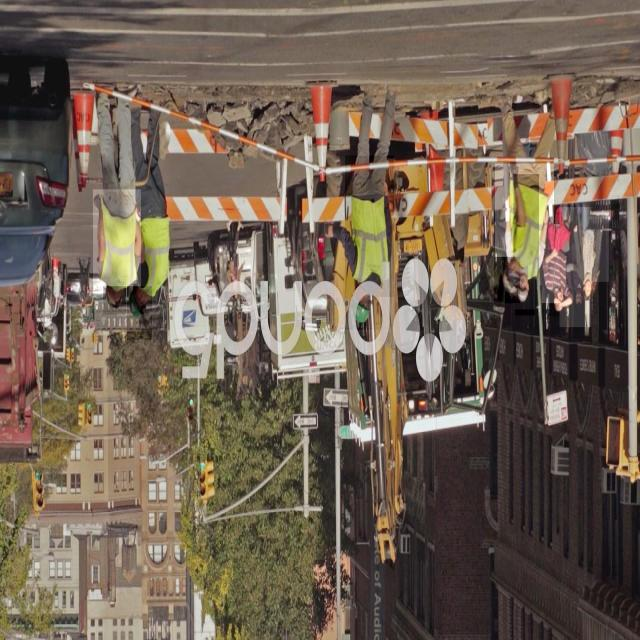Helmet: (560, 207, 592, 327), (569, 213, 609, 282), (542, 224, 570, 303), (345, 276, 379, 330), (220, 241, 254, 291), (127, 286, 152, 340), (494, 257, 520, 303), (515, 266, 535, 316), (512, 278, 540, 310), (578, 270, 596, 308), (570, 274, 586, 316), (103, 286, 126, 315), (224, 283, 246, 313), (546, 286, 566, 316), (78, 275, 91, 301), (76, 302, 92, 316)
Safety Vest: (495, 164, 554, 286), (345, 155, 394, 297), (93, 189, 141, 298), (132, 193, 174, 308), (513, 174, 539, 280)
